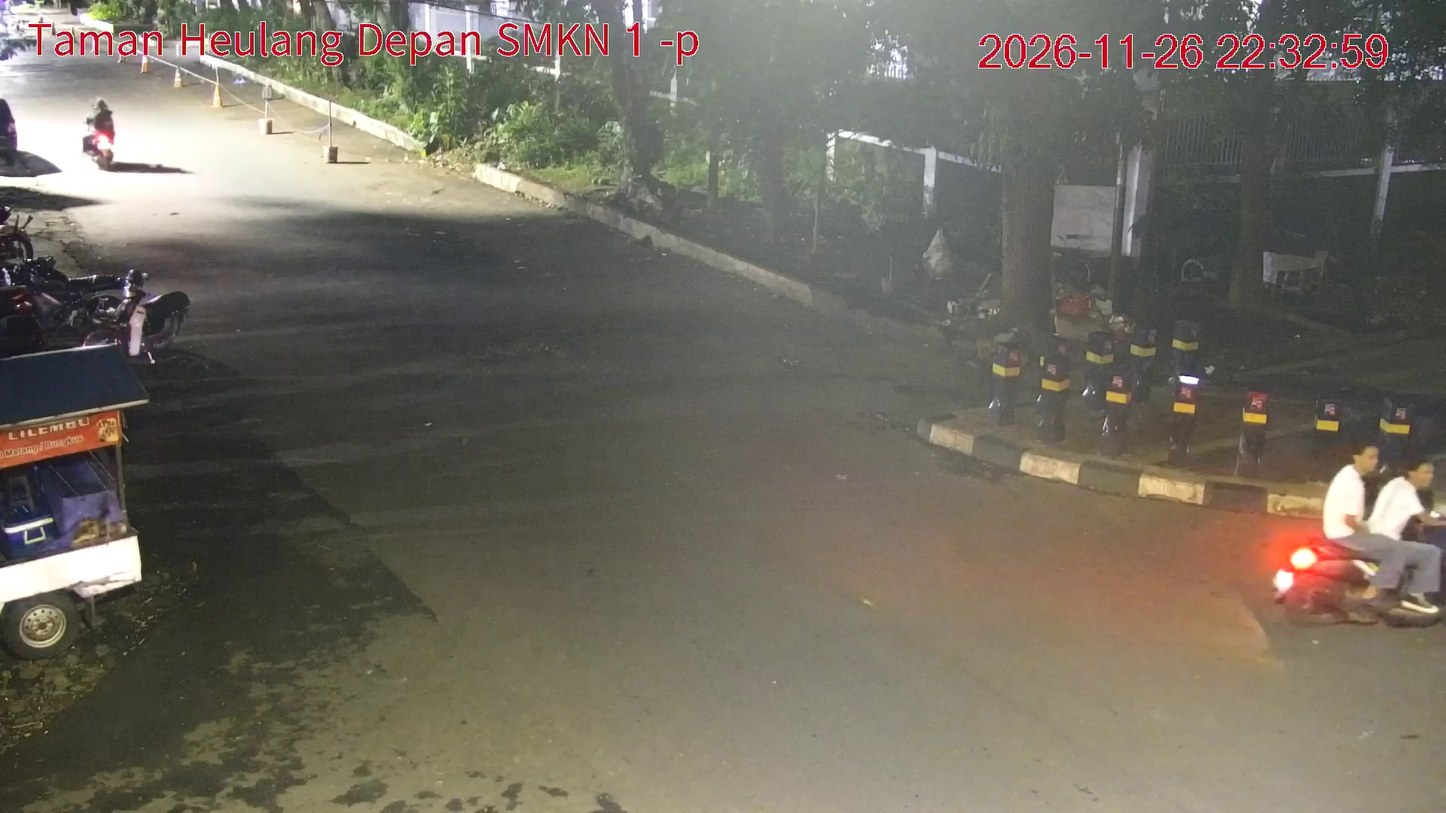Gerobak: (0, 344, 147, 662)
